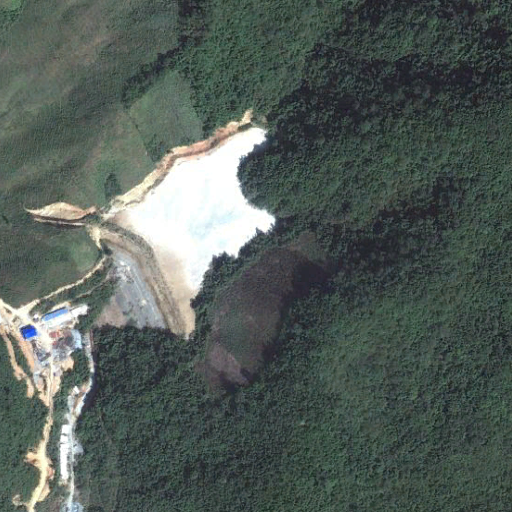tp: (105, 127, 275, 337)
